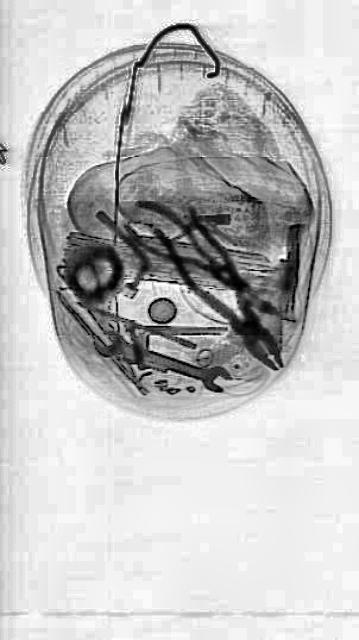Pliers: (148, 182, 292, 392), (122, 184, 283, 336)
Wrench: (90, 322, 232, 396)
